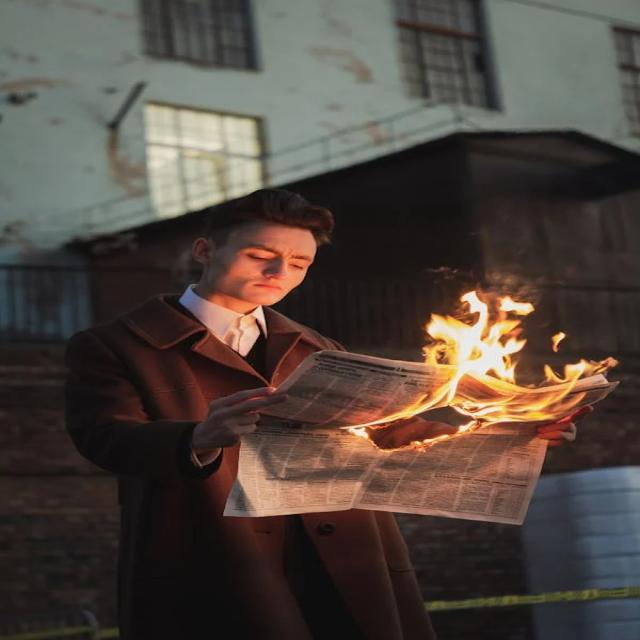Real human 2: (47, 176, 431, 640)
